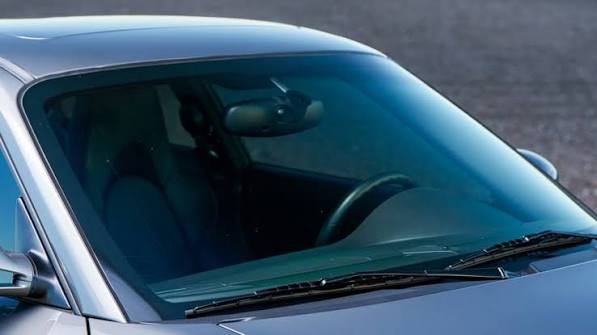car: (17, 9, 597, 331)
